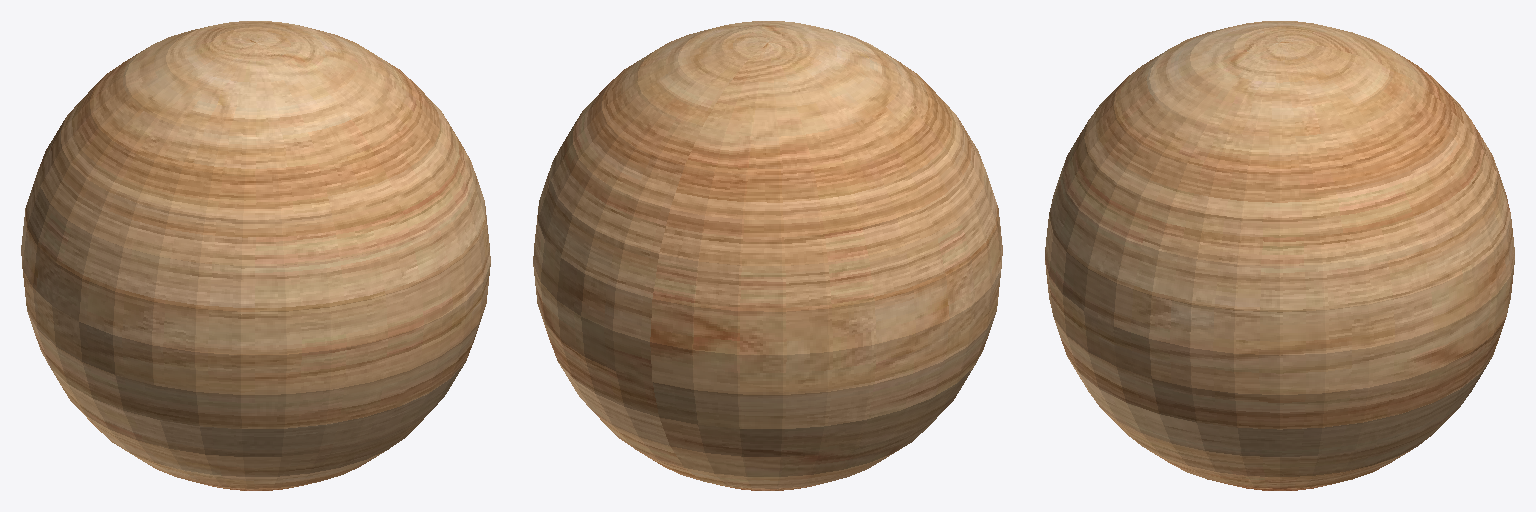
3 views of the same model, side by side, from view 1: azimuth 30°, elevation 25°; view 2: azimuth 150°, elevation 25°; view 3: azimuth 270°, elevation 25° (orthographic).
Parts seen in each view (by area): view 1: Sphere001; view 2: Sphere001; view 3: Sphere001.
Part boxes in pixels (bbox=[...]): Sphere001: bbox=[21, 21, 490, 490]; Sphere001: bbox=[533, 21, 1002, 490]; Sphere001: bbox=[1045, 21, 1514, 490].
Bounding box in the file's own units: 39.68 × 39.68 × 39.68.
Materials: 1 (1 with a texture image).